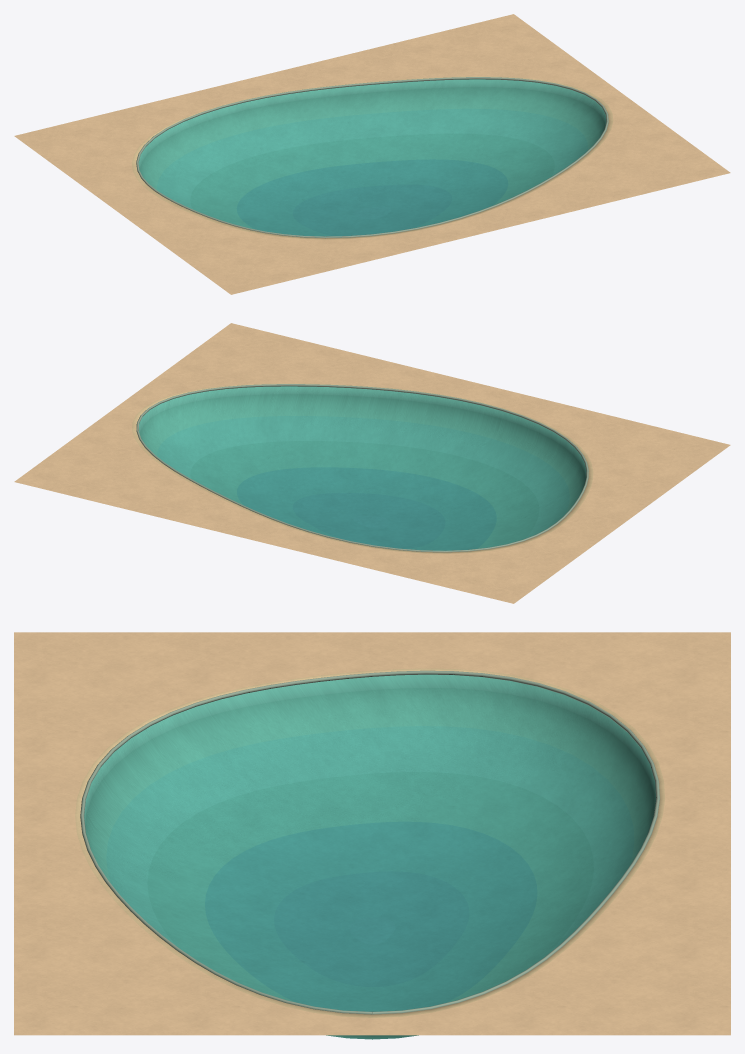
File: magasinet-kidney.glb
3 renders of one model, top to bottom at view 1: azimuth 30°, elevation 25°; view 2: azimuth 150°, elevation 25°; view 3: azimuth 270°, elevation 25°, orthographic. The views are drawn at different scales.
Visible parts, largest first — view 1: magasinet-kidney; view 2: magasinet-kidney; view 3: magasinet-kidney.
Boxes of the visible parts, left/top/right/bottom form: magasinet-kidney: left=14, top=14, right=730, bottom=294; magasinet-kidney: left=14, top=323, right=730, bottom=603; magasinet-kidney: left=14, top=632, right=730, bottom=1039.
Bounding box in the file's own units: 20.2 × 2.29 × 15.2.
Materials: 2 (1 with a texture image).
